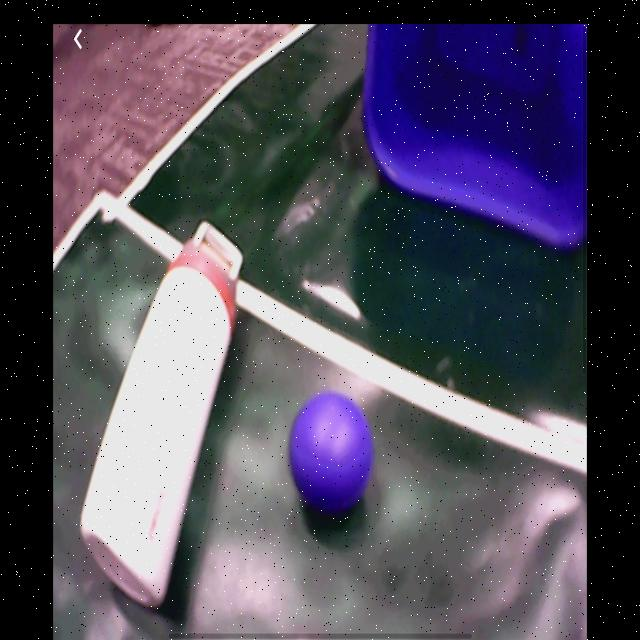ball: (289, 392, 373, 512)
